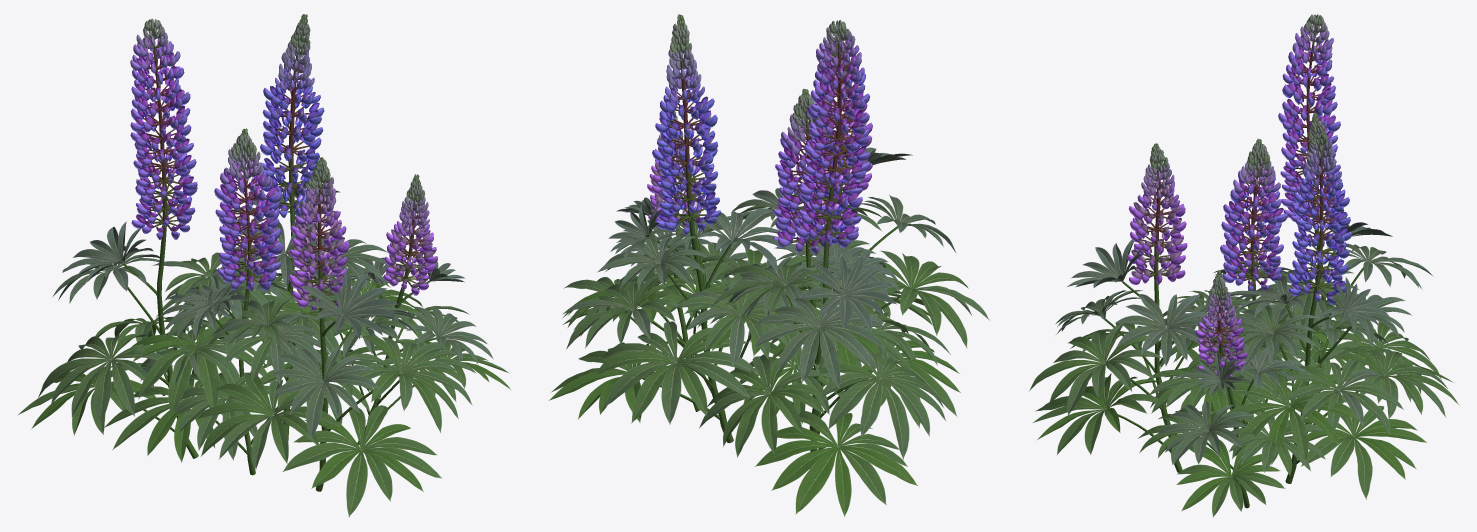
File: large_leaved_lupin.glb
The picture shows the model from 3 angles, left to right: view 1: azimuth 30°, elevation 25°; view 2: azimuth 150°, elevation 25°; view 3: azimuth 270°, elevation 25°; orthographic projection. The views are drawn at different scales.
Parts seen in each view (by area): view 1: Lupinus_polyphyllus_HD; view 2: Lupinus_polyphyllus_HD; view 3: Lupinus_polyphyllus_HD.
Boxes of the visible parts, x1,y1,x2,y2 form: Lupinus_polyphyllus_HD: (17, 14, 511, 517); Lupinus_polyphyllus_HD: (548, 14, 989, 516); Lupinus_polyphyllus_HD: (1029, 14, 1459, 517).
Bounding box in the file's own units: 1.83 × 1.9 × 1.82.
34 materials, 34 textured.
